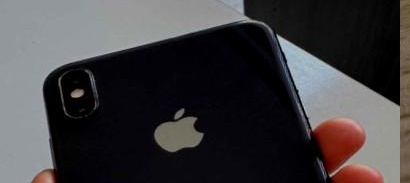scratch: (87, 69, 108, 108), (37, 73, 56, 90)
